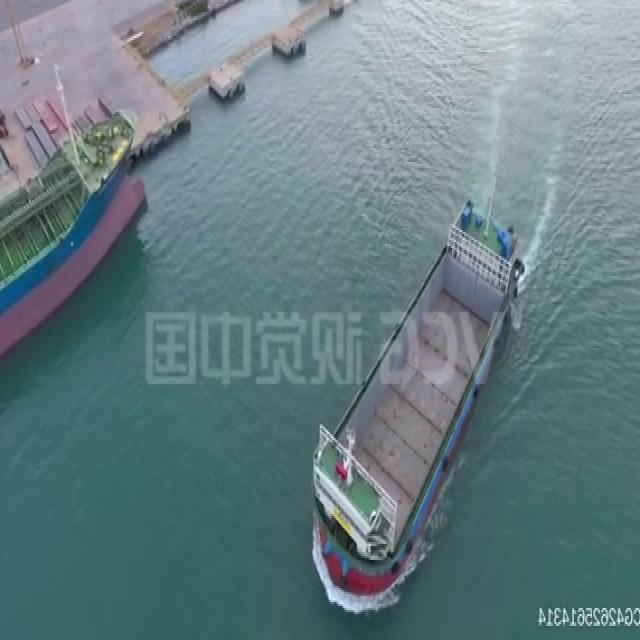cargoship: (307, 202, 522, 600), (0, 96, 145, 388)
